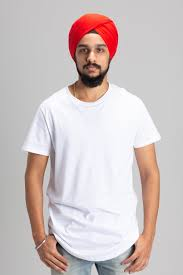helmet: (66, 10, 125, 86)
